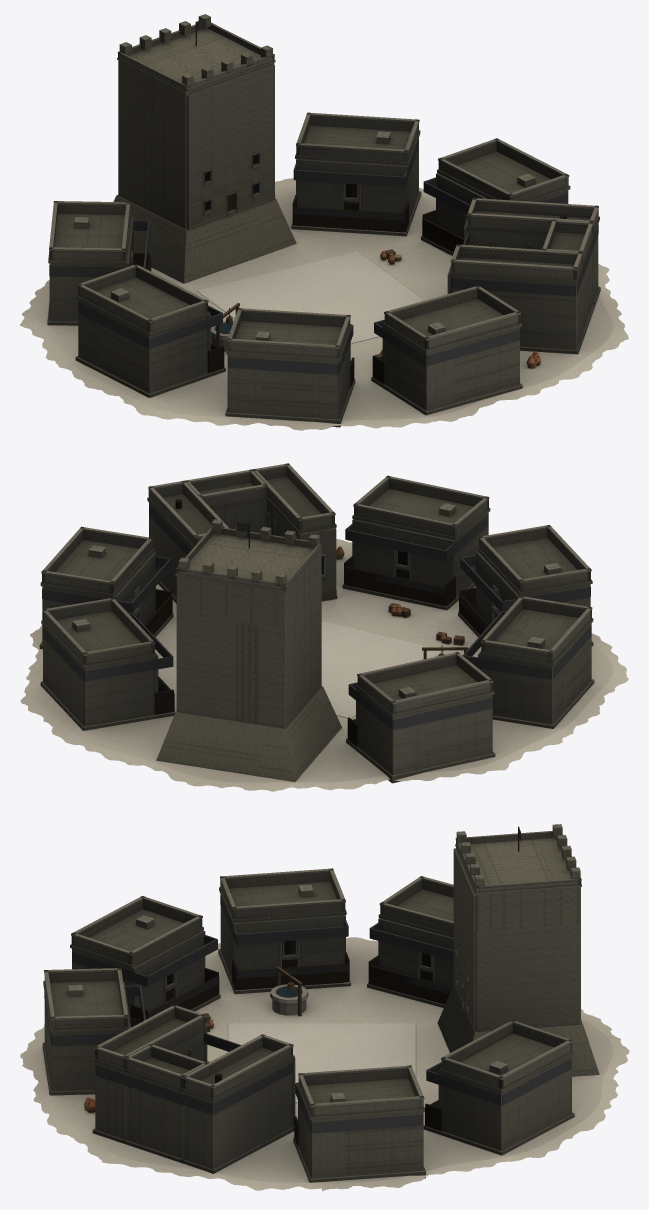
File: classical-town-small-b-israelite.glb
3 views of the same model, one above another, from view 1: azimuth 30°, elevation 25°; view 2: azimuth 150°, elevation 25°; view 3: azimuth 270°, elevation 25° (orthographic).
Parts seen in each view (by area): view 1: LOD0; view 2: LOD0; view 3: LOD0.
Boxes of the visible parts, x1=… form: LOD0: x1=20, y1=14, x2=628, y2=430; LOD0: x1=20, y1=463, x2=628, y2=791; LOD0: x1=20, y1=824, x2=629, y2=1191.
Size of what is drawn, in the model's own units: 3.95 by 1.6 by 3.98.
Materials: 3 (3 with a texture image).
